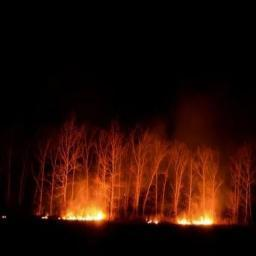Small fire: (58, 172, 114, 224), (143, 212, 223, 227)
